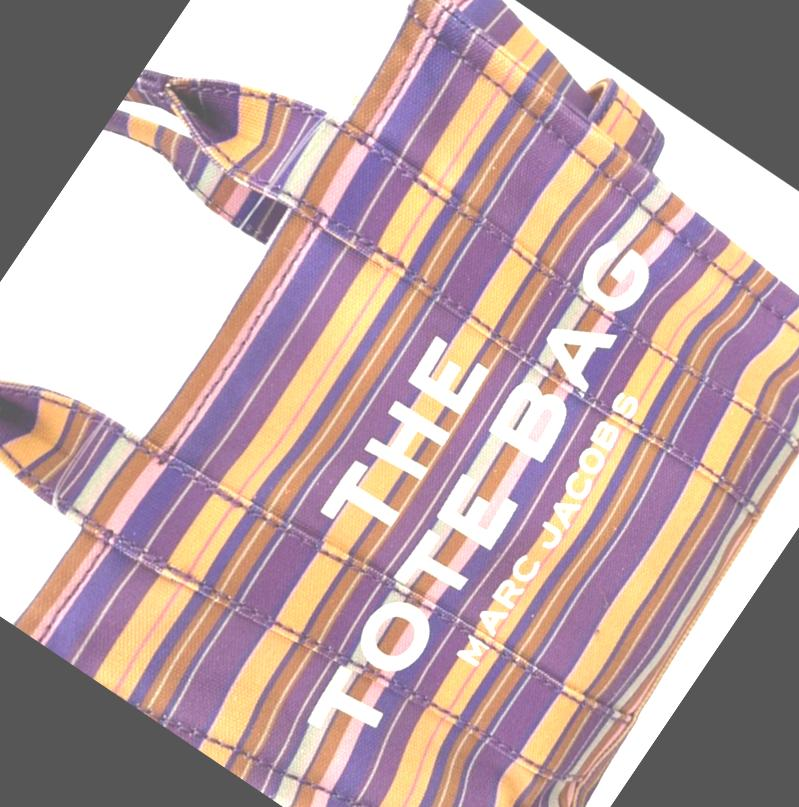MARC-JACOBS: (446, 388, 650, 668)
